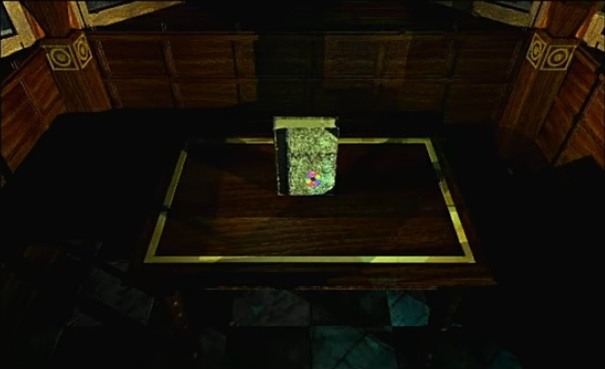Waiting: (302, 168, 324, 187)
